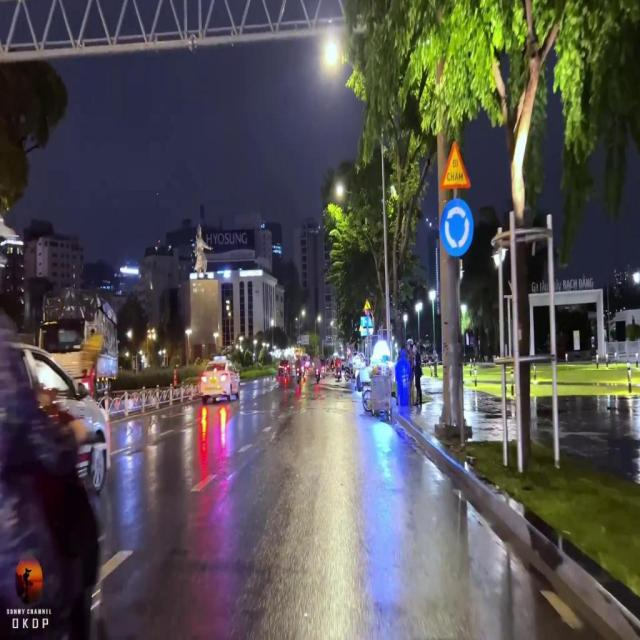di_cham: (439, 140, 472, 188)
noi_giao_nhau_chay_theo_vong: (440, 198, 474, 258)
